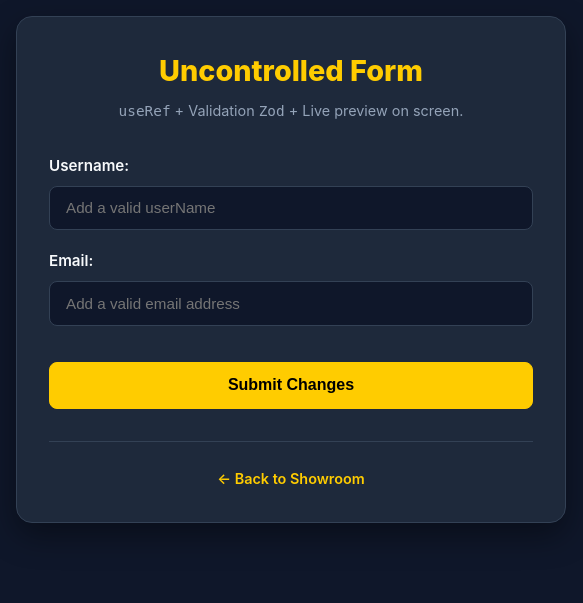
Scenario: ProfileForm Component › It should display an error message if the email is invalid
Type "user.email.com" into the field with placeholder "Add a valid email address" at (291, 303), box top-left (49, 281), bottom-right (533, 326)
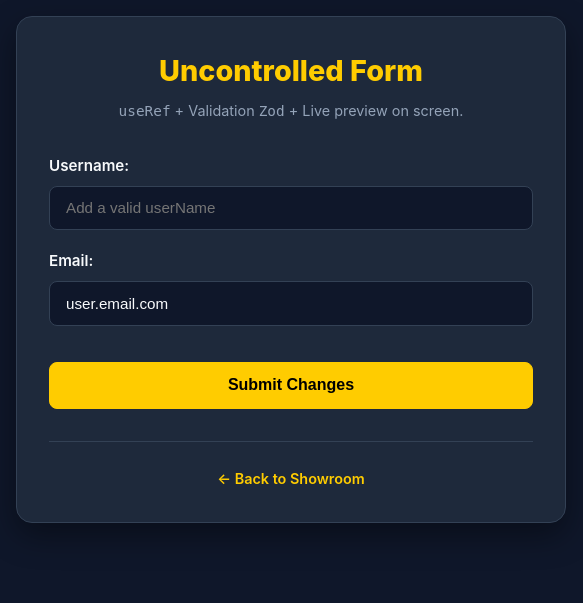
It simulates clicking the submit button
Click the button "Submit Changes" at (291, 385), box top-left (49, 362), bottom-right (533, 409)
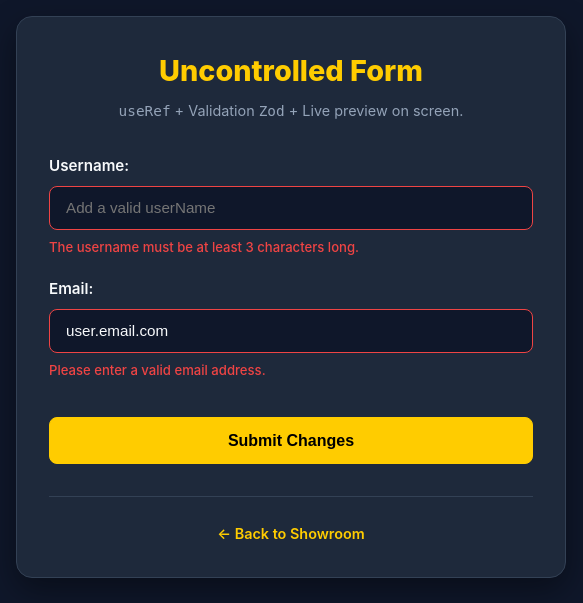
expect the text "Please enter a valid email address." is shown: met, box top-left (49, 362), bottom-right (266, 378)
